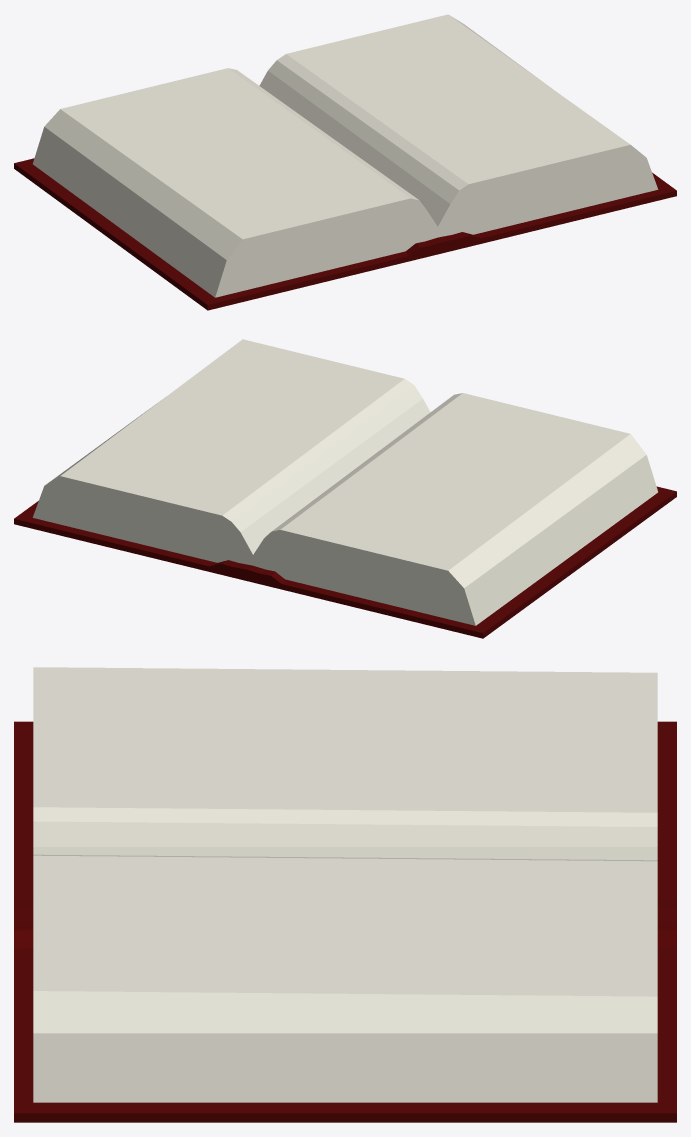
File: uploads_files_2108095_03_buch_offen.fbx
3 views of the same model, one above another, from view 1: azimuth 30°, elevation 25°; view 2: azimuth 150°, elevation 25°; view 3: azimuth 270°, elevation 25° (orthographic). The views are drawn at different scales.
Parts seen in each view (by area): view 1: Buch; view 2: Buch; view 3: Buch.
Part boxes in pixels (x1,y1,x2,y2): Buch: [14, 14, 676, 310]; Buch: [14, 339, 676, 638]; Buch: [14, 667, 676, 1122].
Bounding box in the file's own units: 0.4 × 0.0466 × 0.2862.
